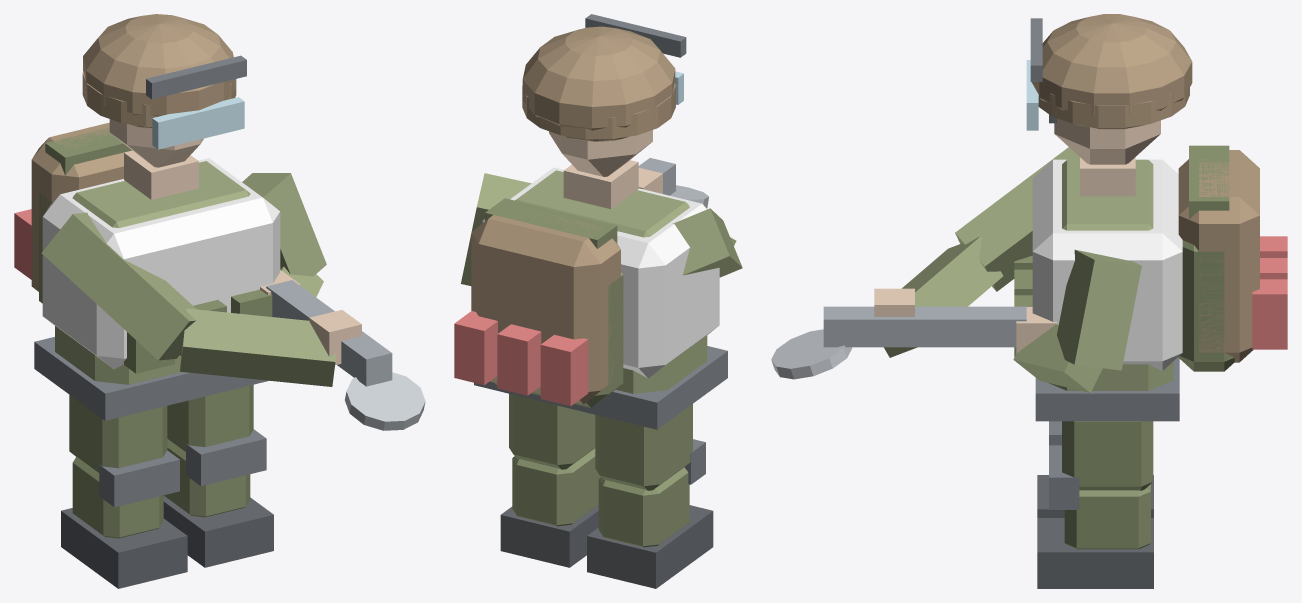
The model's file is sapper.glb.
3 renders of one model, left to right at view 1: azimuth 30°, elevation 25°; view 2: azimuth 150°, elevation 25°; view 3: azimuth 270°, elevation 25°, orthographic.
Parts seen in each view (by area): view 1: main, shinl, shinr, legl, legr; view 2: main, shinl, shinr, legl, legr; view 3: main, shinr, legr, shinl.
Boxes of the visible parts, <box> form: main: <box>14,14,425,430</box>; shinl: <box>61,450,187,588</box>; shinr: <box>163,429,273,567</box>; legl: <box>69,395,167,473</box>; legr: <box>167,384,253,452</box>; main: <box>454,14,742,429</box>; shinl: <box>587,439,713,588</box>; shinr: <box>500,448,600,567</box>; legl: <box>595,404,692,490</box>; legr: <box>509,393,595,469</box>; main: <box>771,14,1287,421</box>; shinr: <box>1037,445,1153,588</box>; legr: <box>1062,421,1153,490</box>; shinl: <box>1037,421,1153,517</box>.
Bounding box in the file's own units: 0.3161 × 0.5733 × 0.5093.
